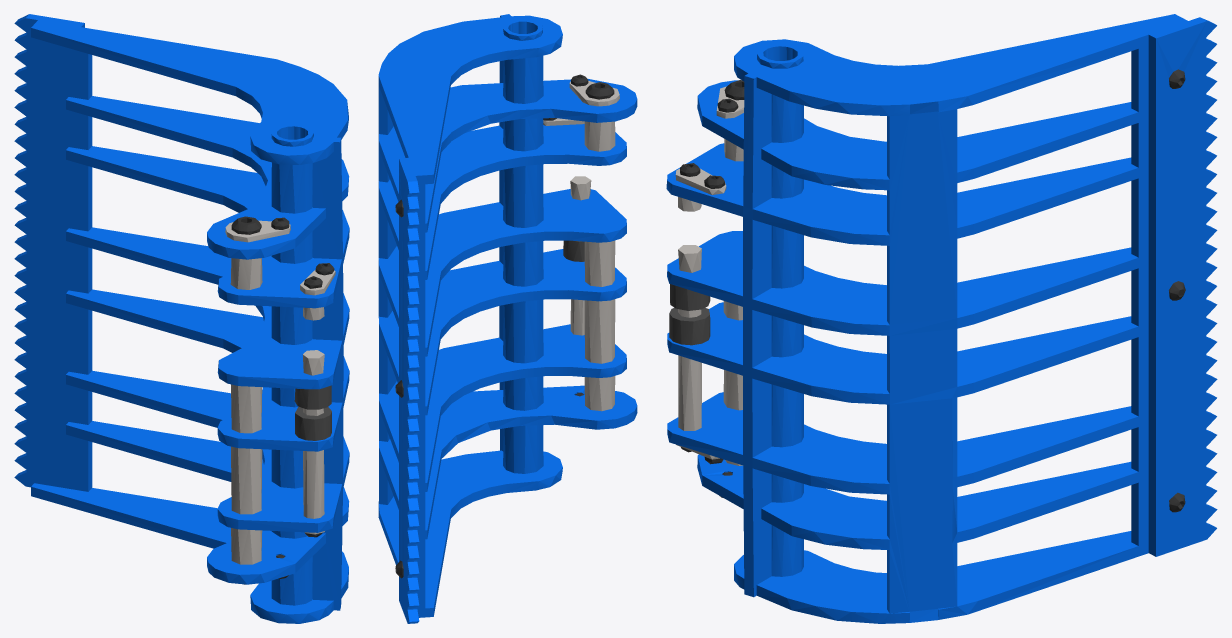
File: gripper_claw_1_visuals_Mesh.obj
The picture shows the model from 3 angles, left to right: view 1: azimuth 30°, elevation 25°; view 2: azimuth 150°, elevation 25°; view 3: azimuth 270°, elevation 25°; orthographic projection. The views are drawn at different scales.
Parts seen in each view (by area): view 1: gripper_1; view 2: gripper_1; view 3: gripper_1.
Part boxes in pixels (box(x1,y1,x2,y2)): gripper_1: box(14, 14, 349, 623); gripper_1: box(378, 14, 637, 623); gripper_1: box(666, 14, 1217, 623).
Size of the model in its own units: 0.0404 by 0.1 by 0.0944.
